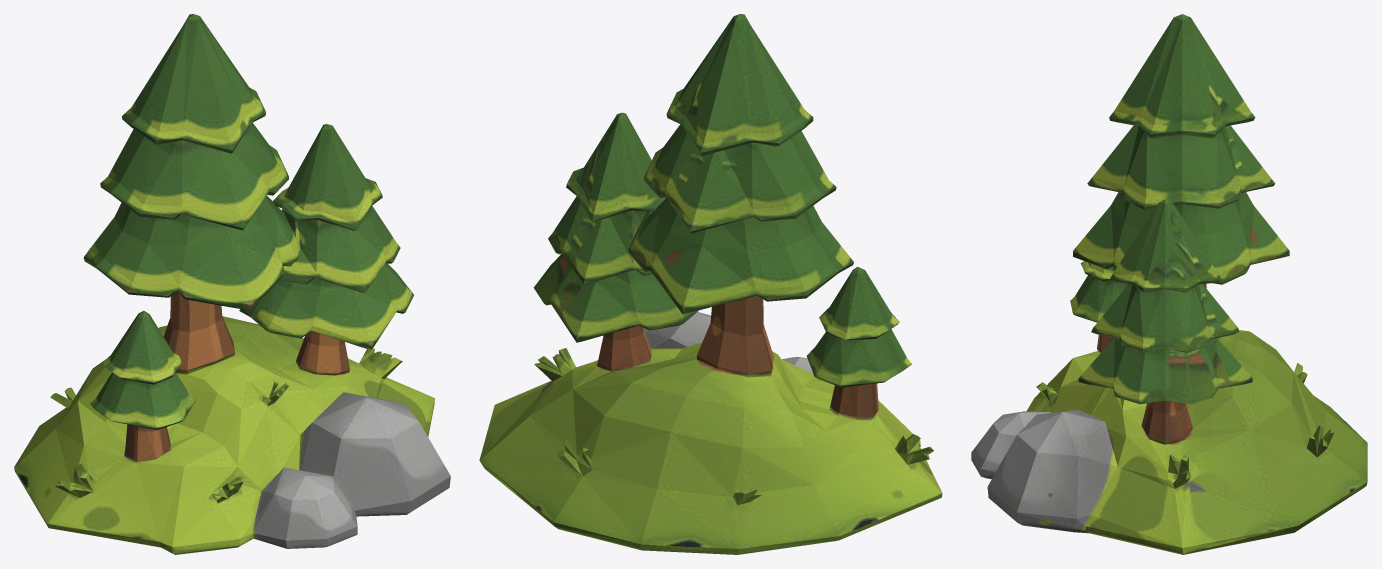
Rendered from pines-BNJwsNY7.glb.
The picture shows the model from 3 angles, left to right: view 1: azimuth 30°, elevation 25°; view 2: azimuth 150°, elevation 25°; view 3: azimuth 270°, elevation 25°; orthographic projection. The views are drawn at different scales.
Visible parts, largest first — view 1: tripo_node_c930d787-18cc-42a1-a2a6-da47746868f6; view 2: tripo_node_c930d787-18cc-42a1-a2a6-da47746868f6; view 3: tripo_node_c930d787-18cc-42a1-a2a6-da47746868f6.
Boxes of the visible parts, left/top/right/bottom form: tripo_node_c930d787-18cc-42a1-a2a6-da47746868f6: left=14, top=14, right=450, bottom=554; tripo_node_c930d787-18cc-42a1-a2a6-da47746868f6: left=479, top=14, right=942, bottom=554; tripo_node_c930d787-18cc-42a1-a2a6-da47746868f6: left=971, top=14, right=1367, bottom=554.
Bounding box in the file's own units: 0.9173 × 0.9786 × 0.7986.
1 material, 1 textured.
